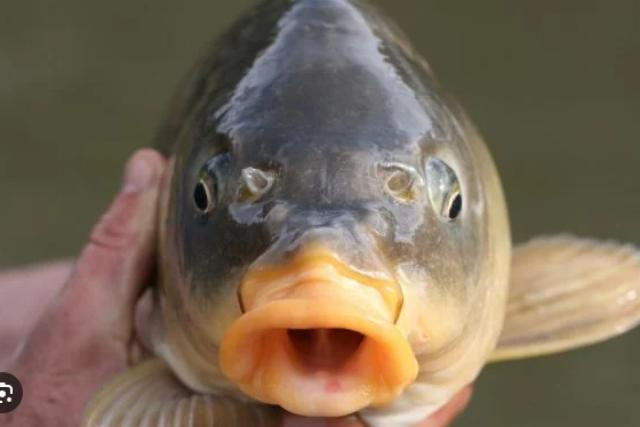Mulut: (191, 263, 443, 427)
